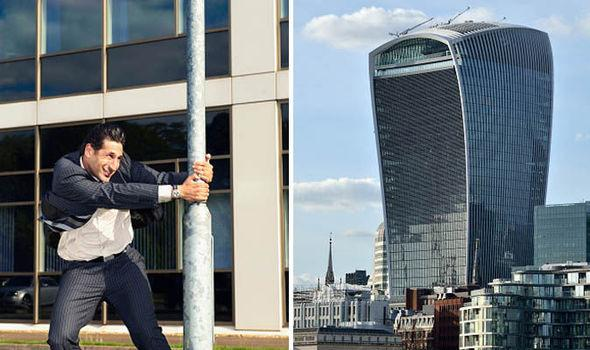Walkie talkie: (366, 11, 560, 280)
